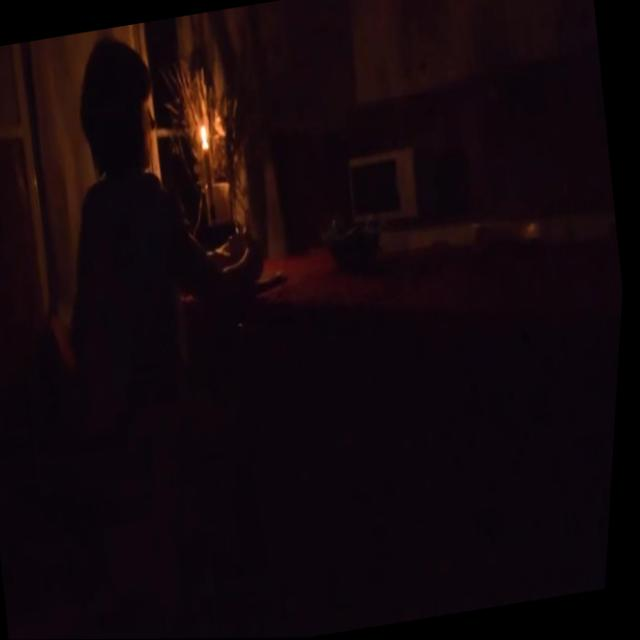fire: (200, 122, 213, 146)
